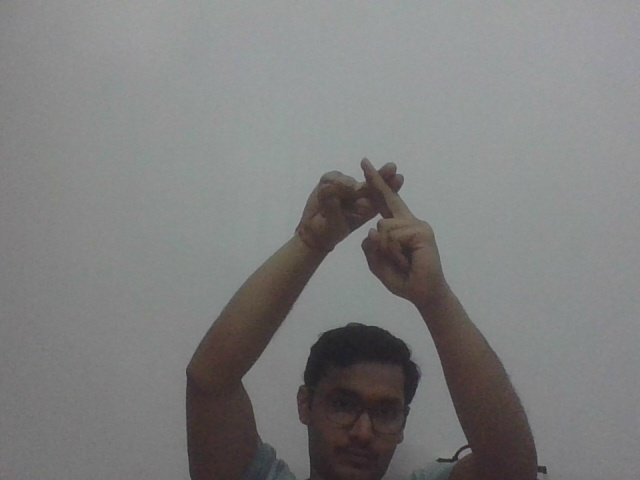F: (301, 154, 448, 296)
